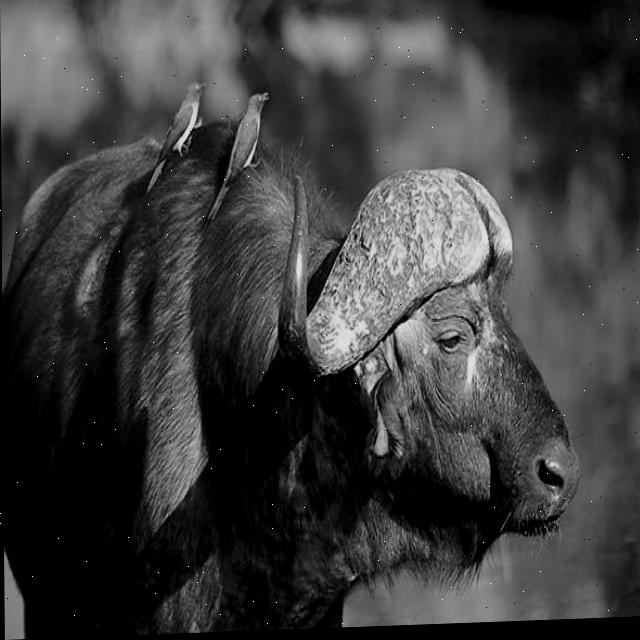Buffalo: (2, 102, 582, 637)
